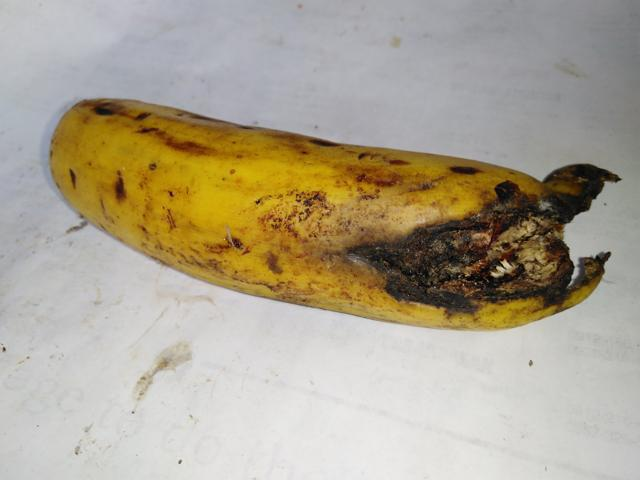rotten: (296, 133, 639, 370)
